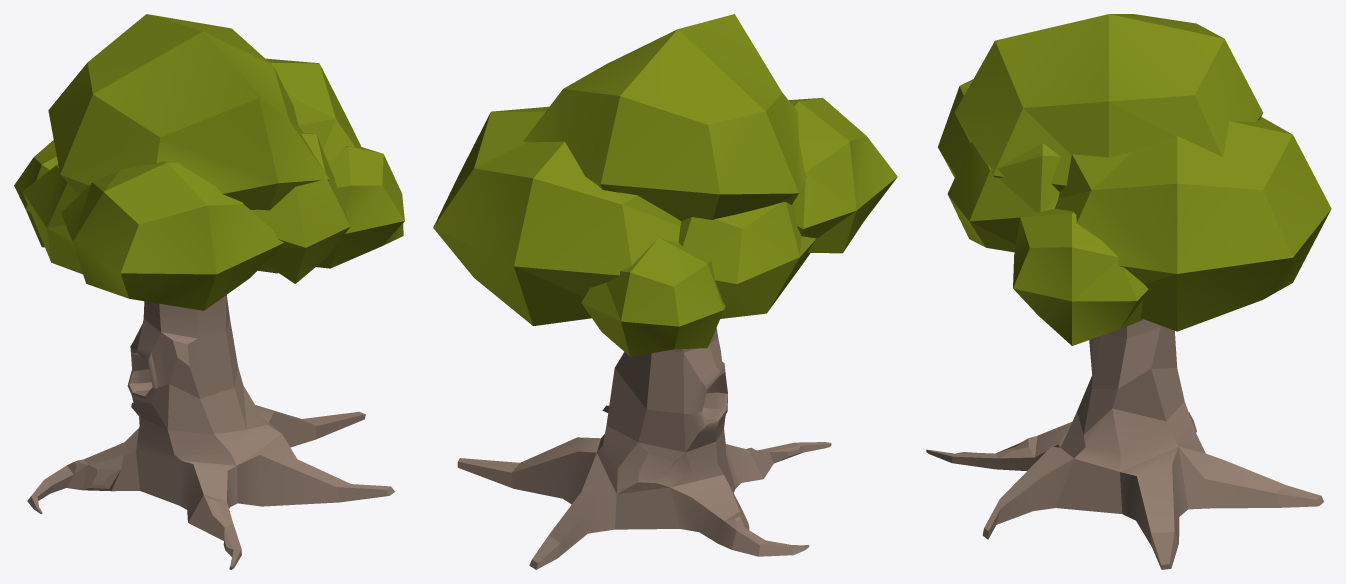
Rendered from tree_001.fbx.
The picture shows the model from 3 angles, left to right: view 1: azimuth 30°, elevation 25°; view 2: azimuth 150°, elevation 25°; view 3: azimuth 270°, elevation 25°; orthographic projection. The views are drawn at different scales.
Visible parts, largest first — view 1: leave, tree; view 2: leave, tree; view 3: leave, tree.
Boxes of the visible parts, x1=… form: leave: x1=14, y1=14, x2=404, y2=310; tree: x1=27, y1=295, x2=395, y2=569; leave: x1=433, y1=14, x2=897, y2=356; tree: x1=457, y1=328, x2=831, y2=569; leave: x1=938, y1=14, x2=1331, y2=345; tree: x1=926, y1=319, x2=1324, y2=569.
Size of the model in its own units: 0.1109 by 0.1434 by 0.1118.
